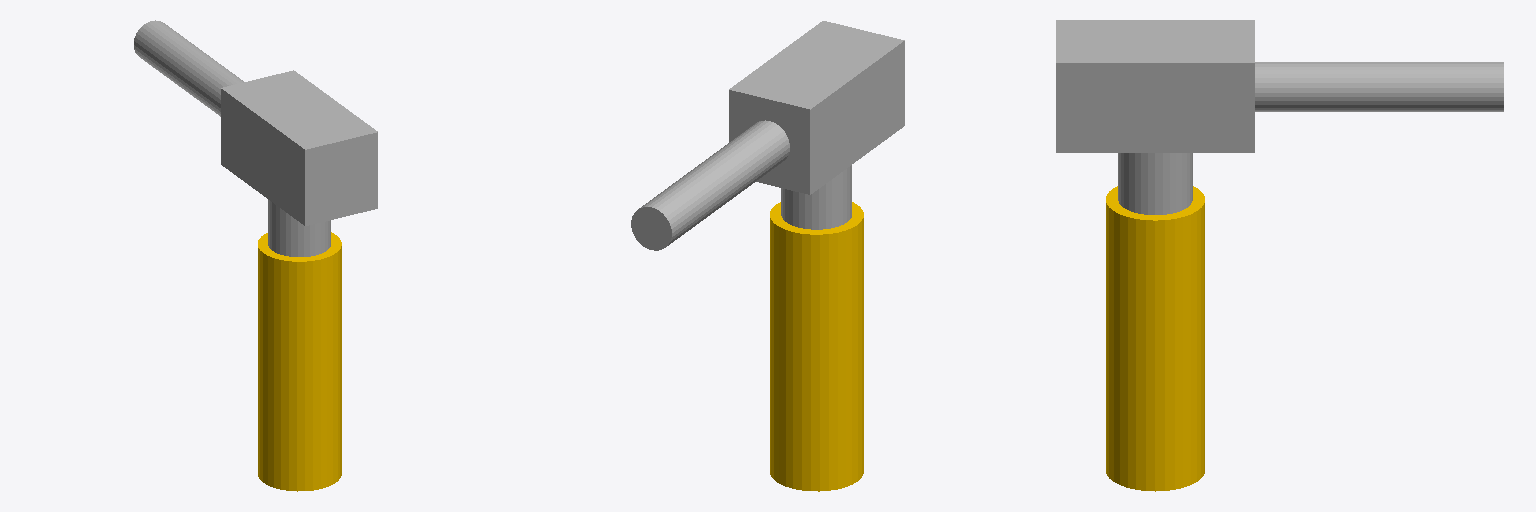
URDF robot description (rock_pick_updated):
<?xml version="1.0"?>
<robot name="rock_pick_updated">

  <material name="shiny_silver"><color rgba="0.75 0.75 0.75 1.0"/></material>
  <material name="bright_yellow"><color rgba="1.0 0.8 0.0 1.0"/></material>

  <link name="base_link"/>

  <joint name="base_to_handle" type="fixed">
    <parent link="base_link"/>
    <child link="handle_link"/>
    <origin xyz="0 0 0" rpy="0 0 0"/>
  </joint>

  <link name="handle_link">
    <visual>
      <origin xyz="0 0 0.06" rpy="0 0 0"/>
      <geometry><cylinder radius="0.02" length="0.12"/></geometry>
      <material name="bright_yellow"/>
    </visual>
    <collision>
      <origin xyz="0 0 0.06" rpy="0 0 0"/>
      <geometry><cylinder radius="0.02" length="0.12"/></geometry>
    </collision>
    <inertial>
      <origin xyz="0 0 0.06" rpy="0 0 0"/>
      <mass value="0.3"/>
      <inertia ixx="0.0004" ixy="0" ixz="0" iyy="0.0004" iyz="0" izz="0.0001"/>
    </inertial>
  </link>

  <link name="shaft_link">
    <visual>
      <origin xyz="0 0 0.025" rpy="0 0 0"/>
      <geometry><cylinder radius="0.015" length="0.05"/></geometry>
      <material name="shiny_silver"/>
    </visual>
    <collision>
      <origin xyz="0 0 0.025" rpy="0 0 0"/>
      <geometry><cylinder radius="0.015" length="0.05"/></geometry>
    </collision>
    <inertial>
      <origin xyz="0 0 0.025" rpy="0 0 0"/>
      <mass value="0.2"/>
      <inertia ixx="0.0001" ixy="0" ixz="0" iyy="0.0001" iyz="0" izz="0.00005"/>
    </inertial>
  </link>

  <joint name="handle_to_shaft" type="fixed">
    <parent link="handle_link"/>
    <child link="shaft_link"/>
    <origin xyz="0 0 0.12" rpy="0 0 0"/>
  </joint>

  <link name="head_link">
    <visual>
      <origin xyz="0 0 0" rpy="0 0 0"/>
      <geometry><box size="0.04 0.08 0.04"/></geometry>
      <material name="shiny_silver"/>
    </visual>
    <collision>
      <origin xyz="0 0 0" rpy="0 0 0"/>
      <geometry><box size="0.04 0.08 0.04"/></geometry>
    </collision>
    
    <visual>
      <origin xyz="0 0.08 0" rpy="1.5708 0 0"/>
      <geometry><cylinder radius="0.01" length="0.12"/></geometry>
      <material name="shiny_silver"/>
    </visual>
    <collision>
      <origin xyz="0 0.08 0" rpy="1.5708 0 0"/>
      <geometry><cylinder radius="0.01" length="0.12"/></geometry>
    </collision>

    <inertial>
      <origin xyz="0 0.04 0" rpy="0 0 0"/>
      <mass value="0.5"/>
      <inertia ixx="0.001" ixy="0" ixz="0" iyy="0.001" iyz="0" izz="0.0005"/>
    </inertial>
  </link>

  <joint name="shaft_to_head" type="fixed">
    <parent link="shaft_link"/>
    <child link="head_link"/>
    <origin xyz="0 0 0.05" rpy="0 0 0"/>
  </joint>

  <gazebo reference="head_link">
    <mu1>1.5</mu1><mu2>1.5</mu2>
    <material>
      <ambient>0.7 0.7 0.7 1</ambient>
      <diffuse>0.8 0.8 0.8 1</diffuse>
      <specular>1 1 1 1</specular>
    </material>
  </gazebo>

  <gazebo reference="shaft_link">
    <mu1>1.5</mu1><mu2>1.5</mu2>
    <material>
      <ambient>0.7 0.7 0.7 1</ambient>
      <diffuse>0.8 0.8 0.8 1</diffuse>
      <specular>1 1 1 1</specular>
    </material>
  </gazebo>

  <gazebo reference="handle_link">
    <mu1>1.5</mu1><mu2>1.5</mu2>
    <material>
      <ambient>1.0 0.8 0.0 1</ambient>
      <diffuse>1.0 0.8 0.0 1</diffuse>
    </material>
  </gazebo>

</robot>

--- What the picture shows (computed from the rendered views, not written in the file) ---
The picture shows the robot from 3 angles, left to right: view 1: azimuth 30°, elevation 25°; view 2: azimuth 150°, elevation 25°; view 3: azimuth 270°, elevation 25°; orthographic projection.
Robot: rock_pick_updated — 4 links, 3 joints (3 fixed); root link base_link; default pose: all joints at 0.
Visible links, largest first — view 1: head_link, handle_link, shaft_link; view 2: head_link, handle_link, shaft_link; view 3: head_link, handle_link, shaft_link.
Boxes of the visible links, <box> form: head_link: <box>134,20,377,225</box>; handle_link: <box>258,232,341,491</box>; shaft_link: <box>268,200,330,256</box>; head_link: <box>631,21,904,250</box>; handle_link: <box>770,202,863,491</box>; shaft_link: <box>781,165,851,229</box>; head_link: <box>1056,20,1503,152</box>; handle_link: <box>1106,186,1204,491</box>; shaft_link: <box>1118,153,1192,214</box>.
Size in the robot's own frame: 0.04 by 0.18 by 0.19 metres.
Geometry: primitives only (box / cylinder / sphere), no mesh files.